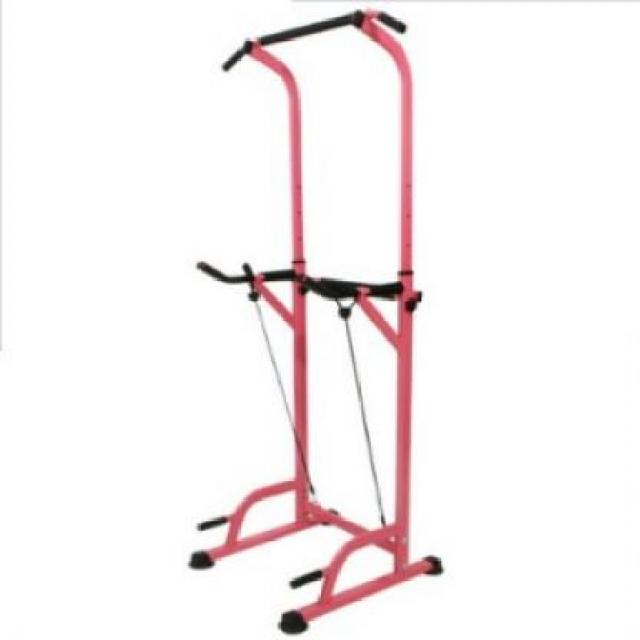chinning dipping: (186, 7, 414, 636)
